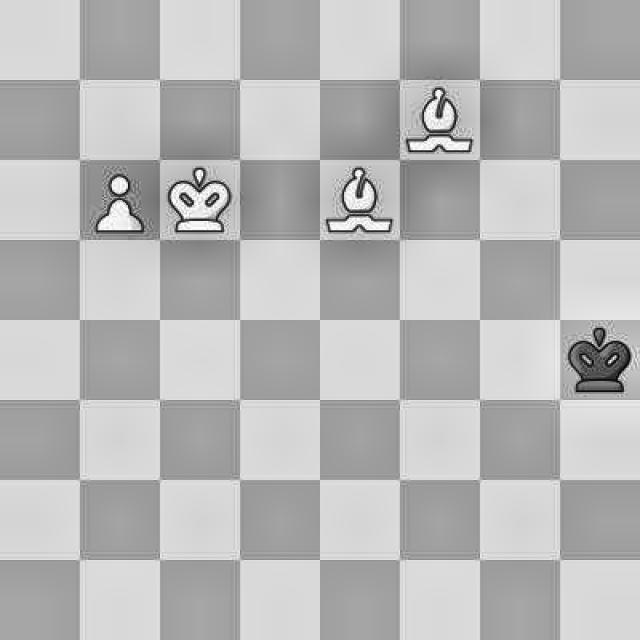black king: (571, 320, 636, 398)
white bishop: (400, 82, 476, 155), (325, 162, 393, 234)
white king: (160, 166, 238, 236)
white pawn: (82, 158, 154, 240)
